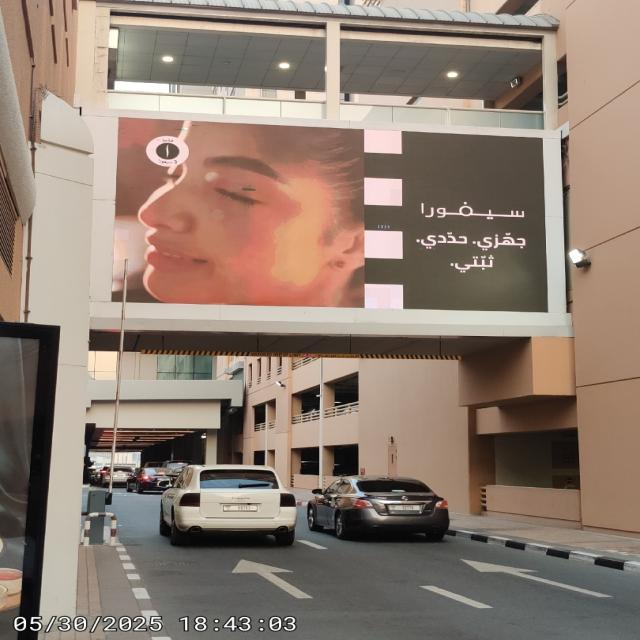digital-board-big: (111, 112, 557, 317)
